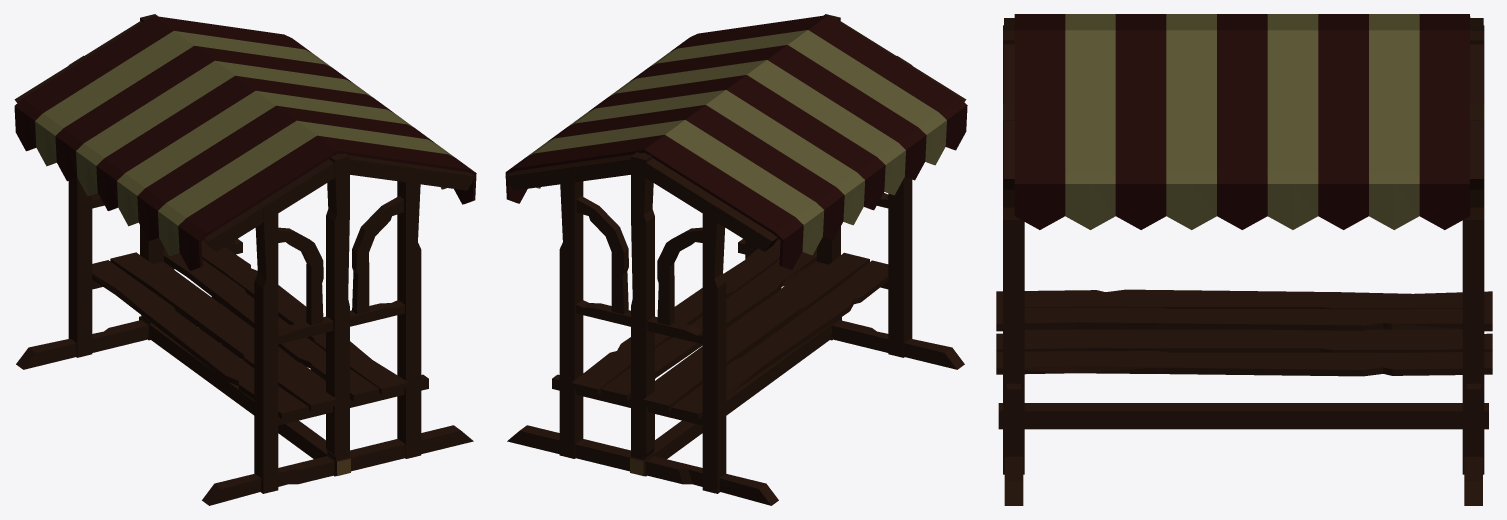
Rendered from MarketStand_1.obj.
The picture shows the model from 3 angles, left to right: view 1: azimuth 30°, elevation 25°; view 2: azimuth 150°, elevation 25°; view 3: azimuth 270°, elevation 25°; orthographic projection. The views are drawn at different scales.
Visible parts, largest first — view 1: MarketStand_1; view 2: MarketStand_1; view 3: MarketStand_1.
Part boxes in pixels (x1=…): MarketStand_1: x1=14, y1=14, x2=476, y2=505; MarketStand_1: x1=505, y1=14, x2=967, y2=505; MarketStand_1: x1=996, y1=14, x2=1492, y2=505.
Size of the model in its own units: 0.9509 by 1.05 by 1.19.
